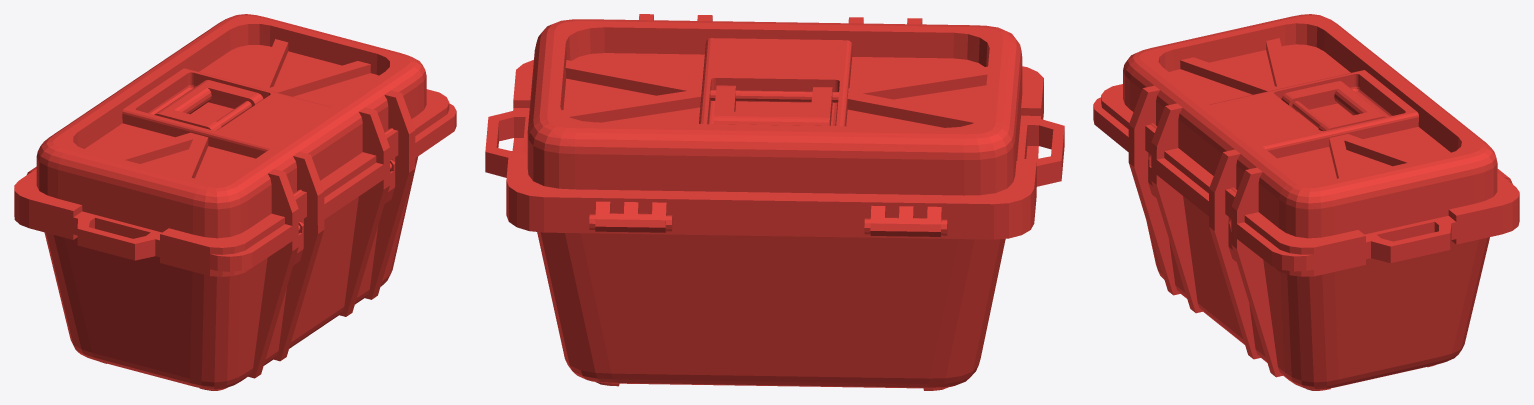
The model's file is Toolbox.dae.
3 views of the same model, side by side, from view 1: azimuth 30°, elevation 25°; view 2: azimuth 150°, elevation 25°; view 3: azimuth 270°, elevation 25° (orthographic). The views are drawn at different scales.
Visible parts, largest first — view 1: toolbox; view 2: toolbox; view 3: toolbox.
Boxes of the visible parts, x1,y1,x2,y2 form: toolbox: [14, 14, 456, 390]; toolbox: [485, 14, 1064, 390]; toolbox: [1093, 14, 1519, 390].
Size of the model in its own units: 0.614 by 0.5348 by 0.3063.
